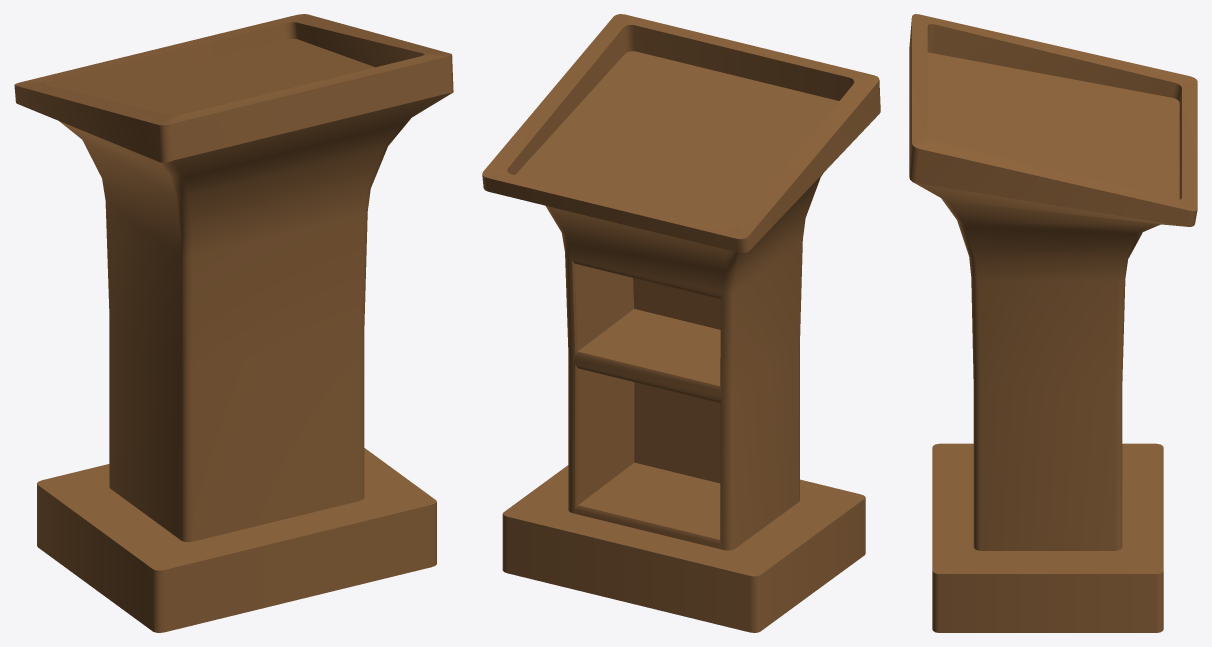
Rendered from Podium.fbx.
3 views of the same model, side by side, from view 1: azimuth 30°, elevation 25°; view 2: azimuth 150°, elevation 25°; view 3: azimuth 270°, elevation 25° (orthographic). The views are drawn at different scales.
Visible parts, largest first — view 1: Podium.002; view 2: Podium.002; view 3: Podium.002.
Part boxes in pixels (x1=…): Podium.002: x1=14, y1=14, x2=453, y2=632; Podium.002: x1=482, y1=14, x2=880, y2=632; Podium.002: x1=909, y1=14, x2=1197, y2=632.
Bounding box in the file's own units: 0.6502 × 0.5895 × 1.1.
